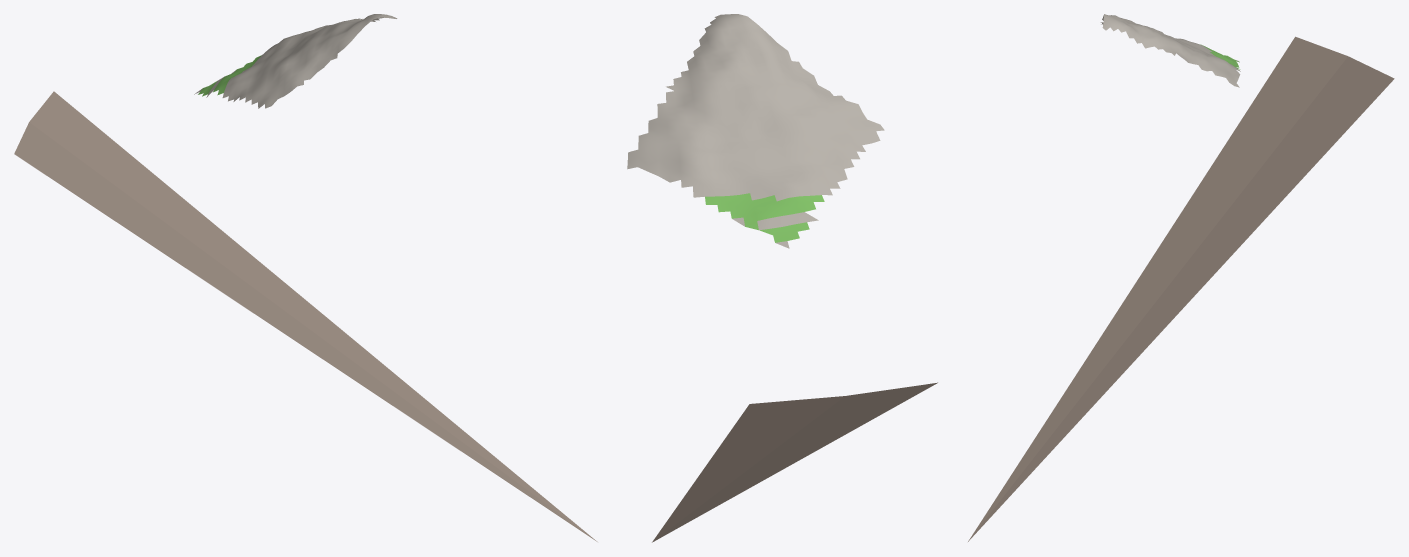
File: flagship_terrain_030.glb
3 views of the same model, side by side, from view 1: azimuth 30°, elevation 25°; view 2: azimuth 150°, elevation 25°; view 3: azimuth 270°, elevation 25° (orthographic). The views are drawn at different scales.
Visible parts, largest first — view 1: Terrain_030; view 2: Terrain_030; view 3: Terrain_030.
Part boxes in pixels (left/top/right/bottom): Terrain_030: left=14, top=14, right=597, bottom=541; Terrain_030: left=627, top=14, right=937, bottom=542; Terrain_030: left=968, top=14, right=1394, bottom=541.
Size of the model in its own units: 95.2 by 113 by 95.2.
